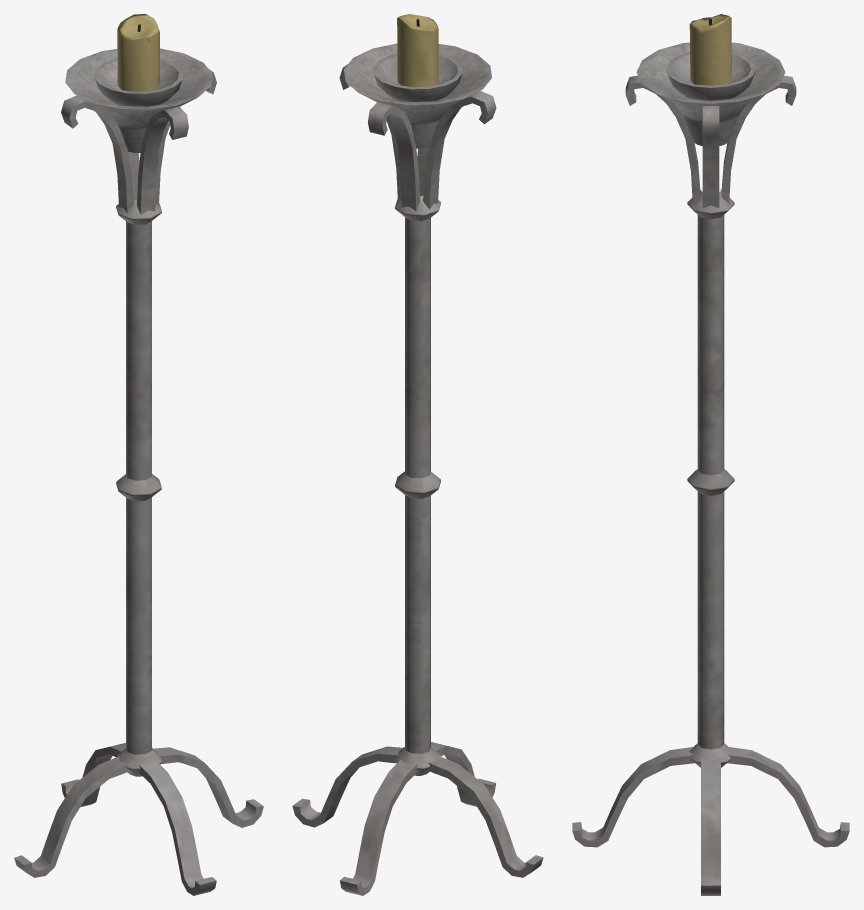
The model's file is SM_pal_b00_building_Lordenfel_Candelabra_02_e1a7f4.glb.
The picture shows the model from 3 angles, left to right: view 1: azimuth 30°, elevation 25°; view 2: azimuth 150°, elevation 25°; view 3: azimuth 270°, elevation 25°; orthographic projection.
Size of the model in its own units: 0.51 by 1.68 by 0.51.
2 materials, 2 textured.
